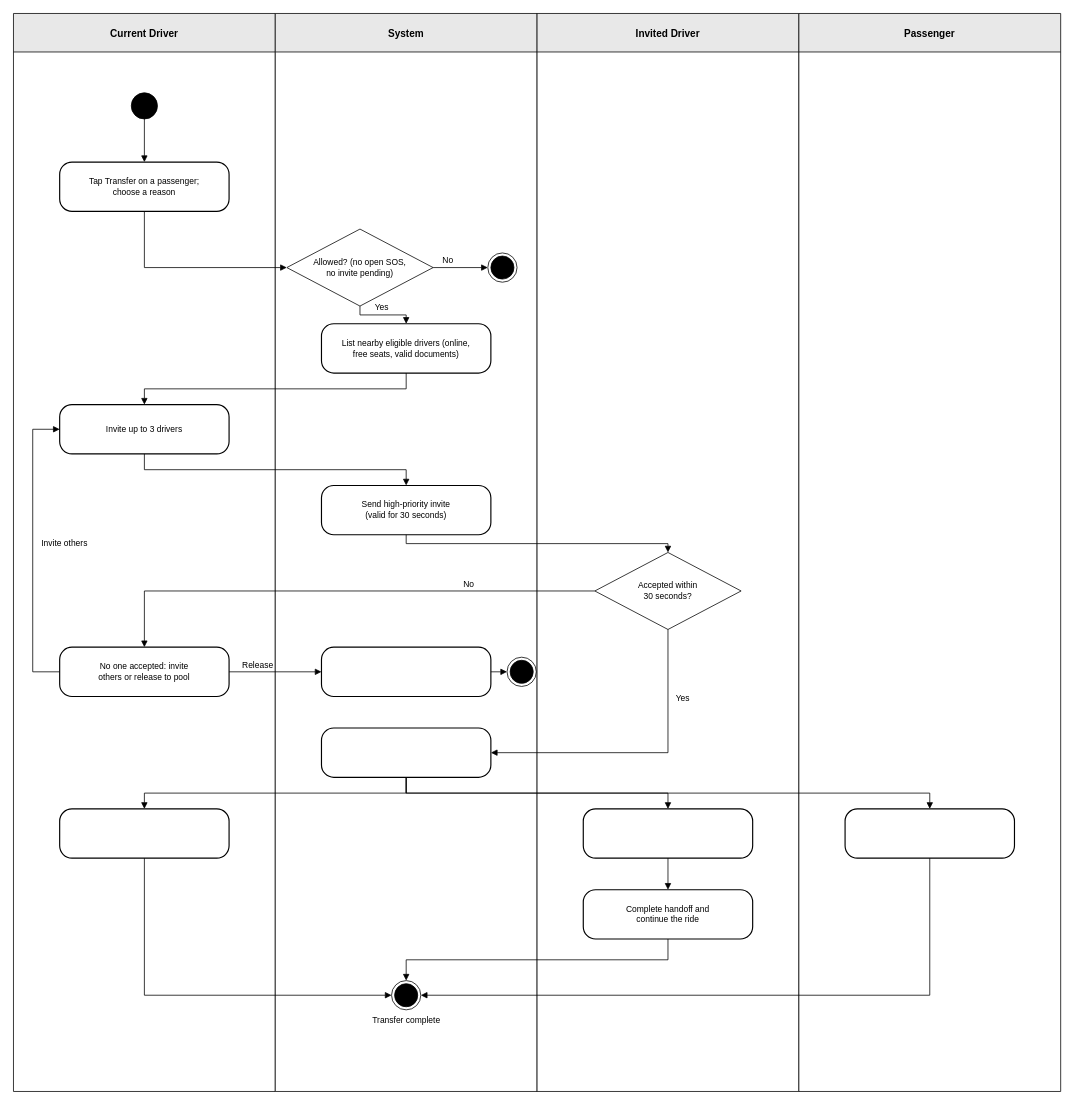
The diagram is 1074 pixels wide and 1105 high, and some of its shapes have lost their labels. The centre of each missing label's shape, as x and y in pixels:
"Back to matching" goes at point (521, 671).
"Go to handoff point (or pickup point)" goes at point (667, 833).
"Notified: new driver, plate and ETA" goes at point (929, 833).
"Passenger leaves your list" goes at point (144, 833).
"Re-check eligibility and seats; first accept wins; move ride" goes at point (406, 752).
"Refused" goes at point (502, 267).
"Release to pool: ride becomes pending for all eligible drivers" goes at point (406, 671).
